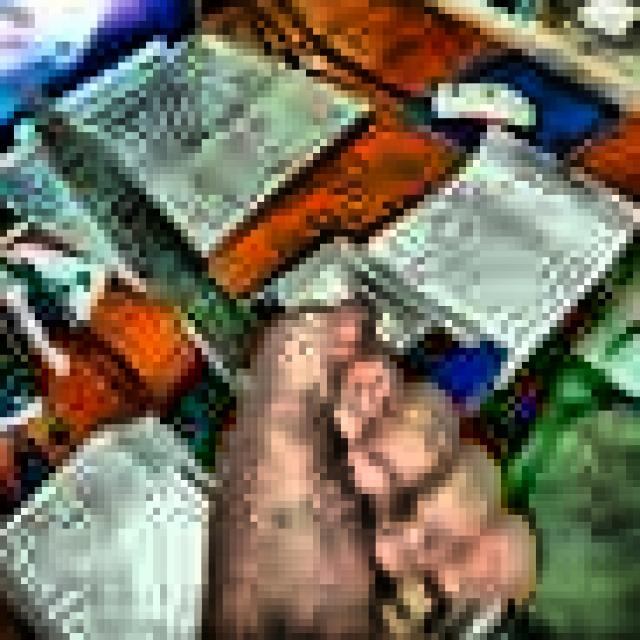knife: (21, 90, 529, 640)
